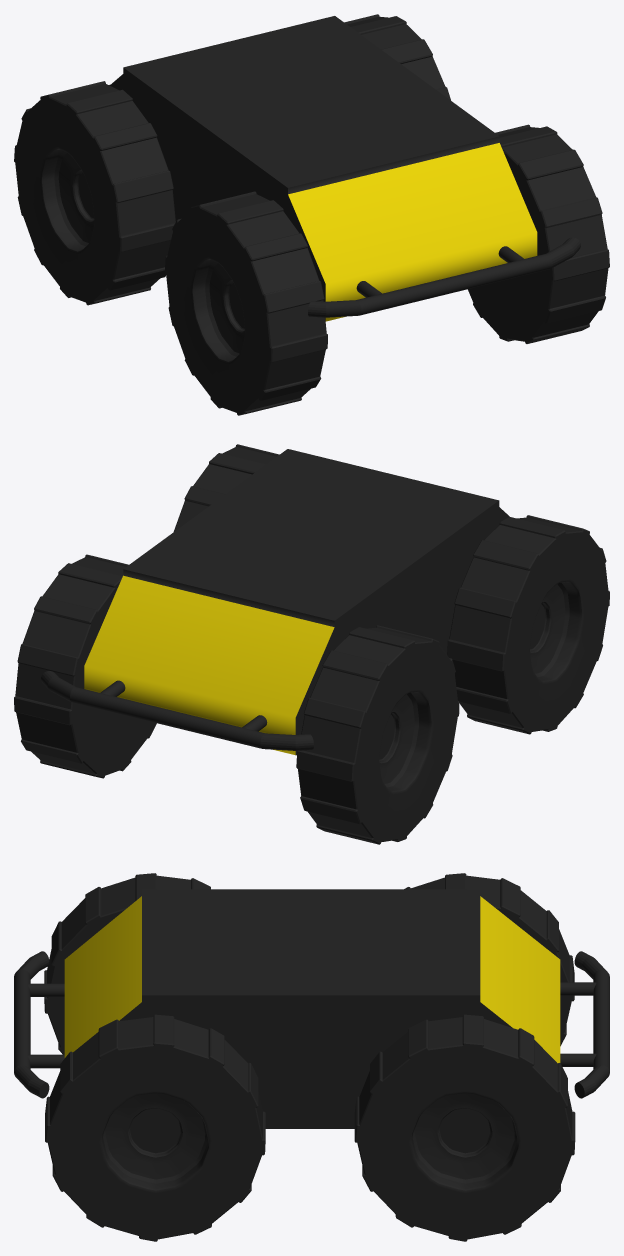
The model's file is husky.fbx.
3 views of the same model, one above another, from view 1: azimuth 30°, elevation 25°; view 2: azimuth 150°, elevation 25°; view 3: azimuth 270°, elevation 25° (orthographic). The views are drawn at different scales.
Parts seen in each view (by area): view 1: pCube2, pCylinder9, pCylinder6, pCylinder7, pCylinder8; view 2: pCube2, pCylinder9, pCylinder6, pCylinder8, pCylinder7; view 3: pCube2, pCylinder8, pCylinder7, pCylinder6, pCylinder9.
Boxes of the visible parts, bbox=[...] form: pCube2: bbox=[109, 16, 580, 321]; pCylinder9: bbox=[14, 81, 175, 305]; pCylinder6: bbox=[164, 191, 327, 415]; pCylinder7: bbox=[468, 124, 609, 343]; pCylinder8: bbox=[344, 14, 450, 100]; pCube2: bbox=[41, 449, 509, 755]; pCylinder9: bbox=[296, 625, 459, 844]; pCylinder6: bbox=[447, 515, 609, 734]; pCylinder8: bbox=[14, 554, 156, 778]; pCylinder7: bbox=[173, 444, 279, 531]; pCube2: bbox=[14, 889, 609, 1128]; pCylinder8: bbox=[354, 1014, 575, 1241]; pCylinder7: bbox=[45, 1014, 265, 1241]; pCylinder6: bbox=[44, 873, 210, 1054]; pCylinder9: bbox=[404, 873, 574, 1046].
Size of the model in its own units: 2.85 by 1.68 by 4.22.
